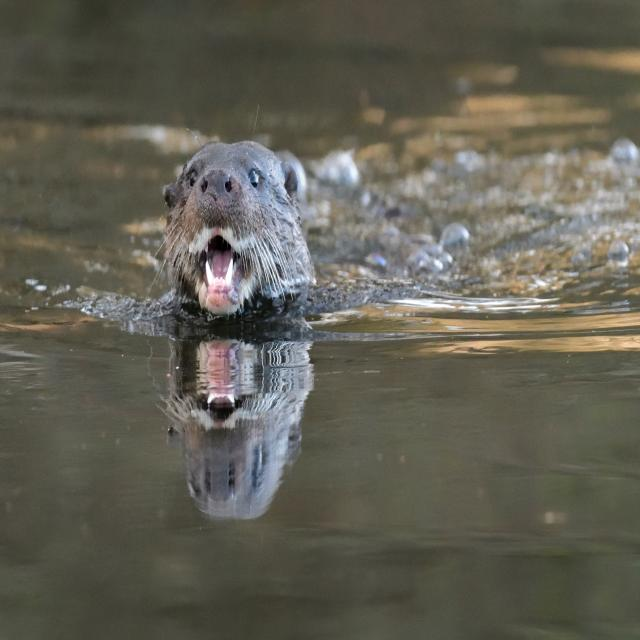otter: (165, 142, 313, 316)
